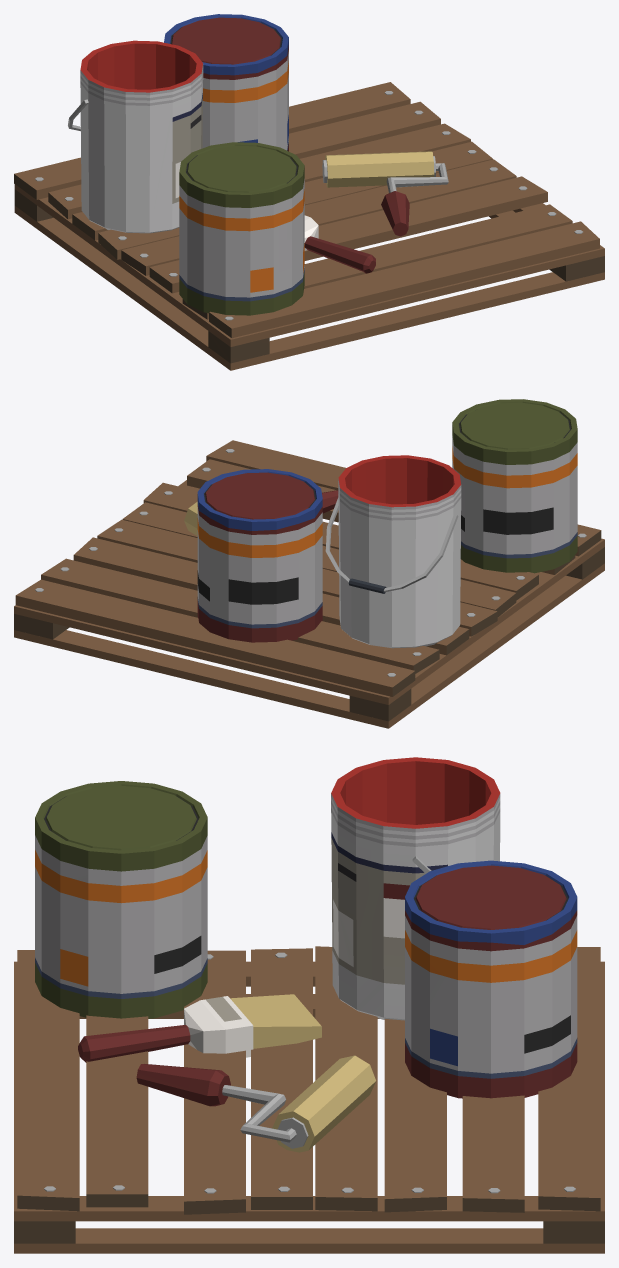
The model's file is SM_paint_set_1.gltf.
The picture shows the model from 3 angles, top to bottom: view 1: azimuth 30°, elevation 25°; view 2: azimuth 150°, elevation 25°; view 3: azimuth 270°, elevation 25°; orthographic projection. The views are drawn at different scales.
Visible parts, largest first — view 1: SM_paint_set_1; view 2: SM_paint_set_1; view 3: SM_paint_set_1.
Boxes of the visible parts, x1,y1,x2,y2 form: SM_paint_set_1: (14, 14, 604, 370); SM_paint_set_1: (14, 399, 604, 728); SM_paint_set_1: (14, 757, 604, 1253).
Bounding box in the file's own units: 1.57 × 0.7154 × 1.54.
1 material, 1 textured.
